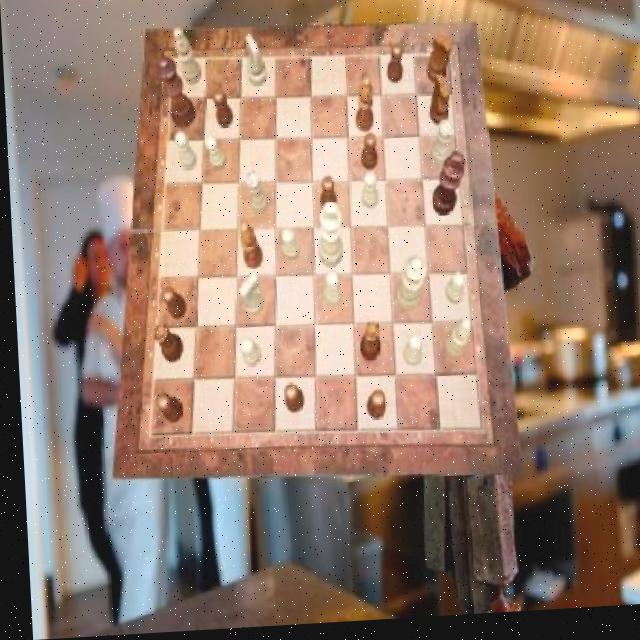bishop: (236, 222, 260, 272), (352, 80, 373, 137)
black-bishop: (427, 156, 466, 221)
black-king: (425, 38, 453, 90), (427, 78, 450, 131)
black-knight: (158, 288, 183, 323), (153, 394, 179, 426), (212, 93, 233, 132), (386, 47, 404, 88), (317, 180, 335, 217), (359, 138, 377, 175), (281, 387, 301, 419), (361, 395, 381, 424)
black-pawn: (155, 57, 194, 133)
black-queen: (149, 323, 181, 366), (355, 326, 378, 367)
black-rook: (174, 30, 201, 88), (440, 322, 469, 365)
white-bishop: (315, 205, 342, 272)
white-king: (245, 39, 267, 92), (236, 275, 262, 318)
white-knight: (173, 134, 196, 174), (203, 138, 224, 173), (358, 175, 377, 213), (441, 277, 462, 311), (399, 338, 419, 371), (279, 230, 298, 264), (320, 274, 338, 309), (237, 341, 258, 369)
white-pawn: (390, 260, 425, 316)
white-queen: (429, 125, 454, 172), (243, 171, 267, 218)
